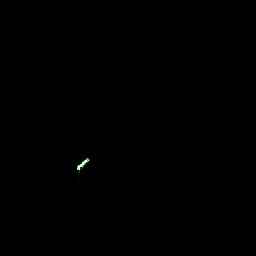ship: (74, 154, 92, 172)
